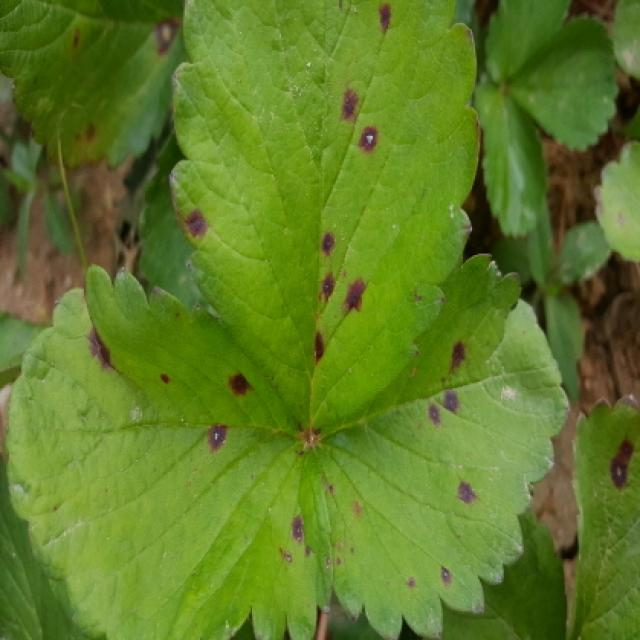Leaf Spot: (167, 0, 481, 435), (5, 264, 333, 638), (306, 252, 571, 638)
